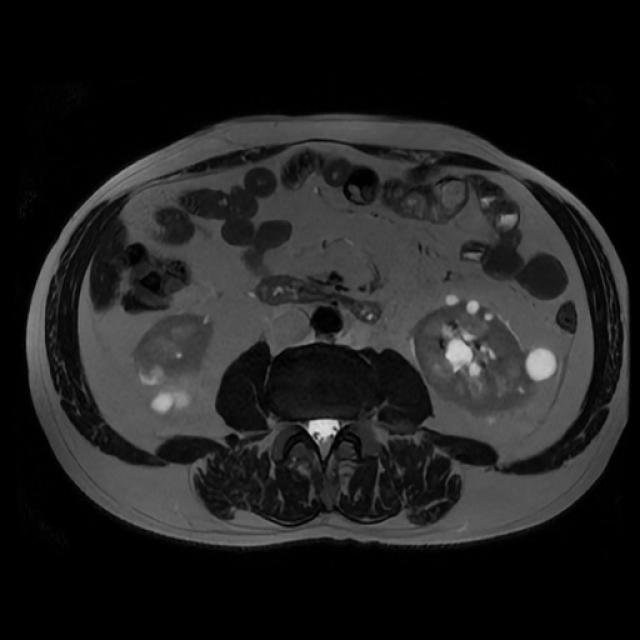sag: (136, 311, 209, 412)
sol: (417, 292, 557, 413)
